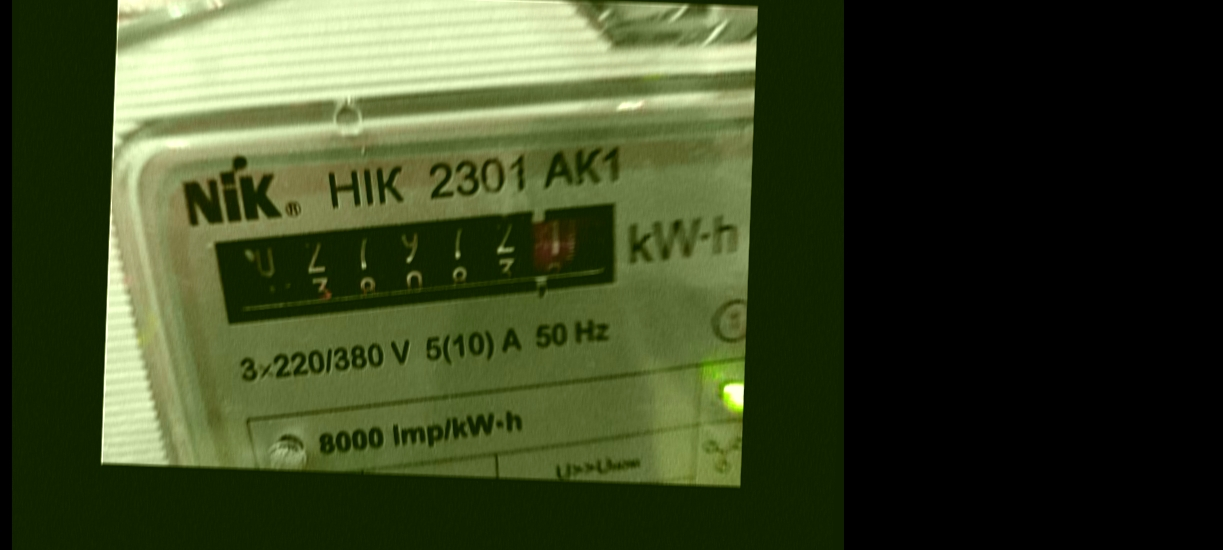0: (249, 242, 278, 279)
1: (543, 216, 566, 259)
2: (298, 235, 328, 275), (489, 218, 518, 256)
7: (442, 221, 469, 263), (348, 234, 373, 271)
9: (396, 228, 423, 264)
screen: (193, 179, 650, 349)
